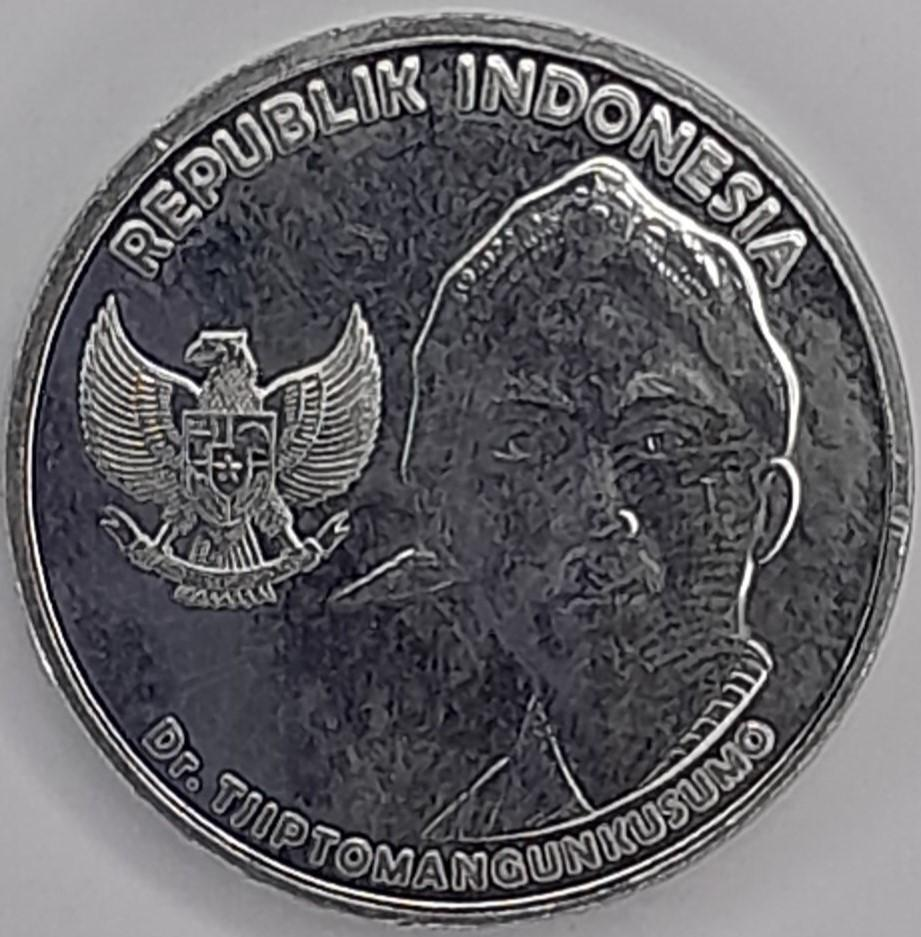coin_200_e2016: (0, 16, 921, 937)
